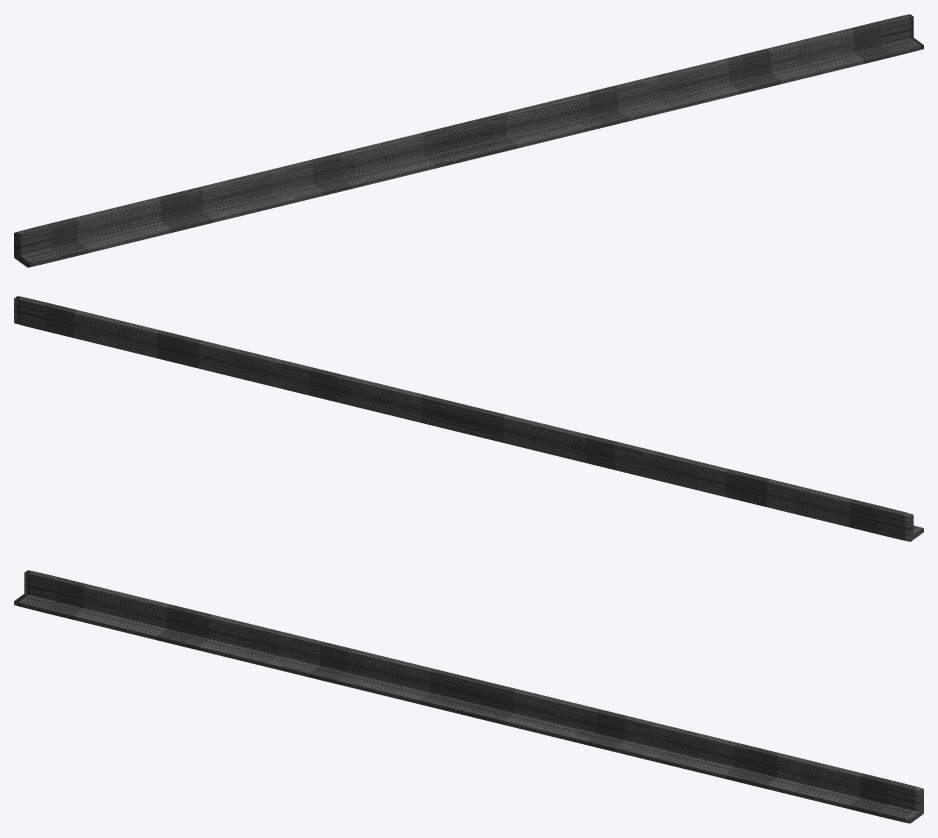
File: seal.glb
The picture shows the model from 3 angles, top to bottom: view 1: azimuth 30°, elevation 25°; view 2: azimuth 150°, elevation 25°; view 3: azimuth 330°, elevation 25°; orthographic projection.
Visible parts, largest first — view 1: web, return; view 2: web, return; view 3: web, return.
Boxes of the visible parts, left/top/right/bottom form: web: left=14, top=14, right=913, bottom=259; return: left=15, top=37, right=923, bottom=267; web: left=14, top=296, right=913, bottom=541; return: left=14, top=323, right=923, bottom=541; web: left=24, top=570, right=923, bottom=815; return: left=14, top=593, right=922, bottom=823.
Size of the model in its own units: 0.88 by 0.024 by 0.024.
Materials: 1 (1 with a texture image).
